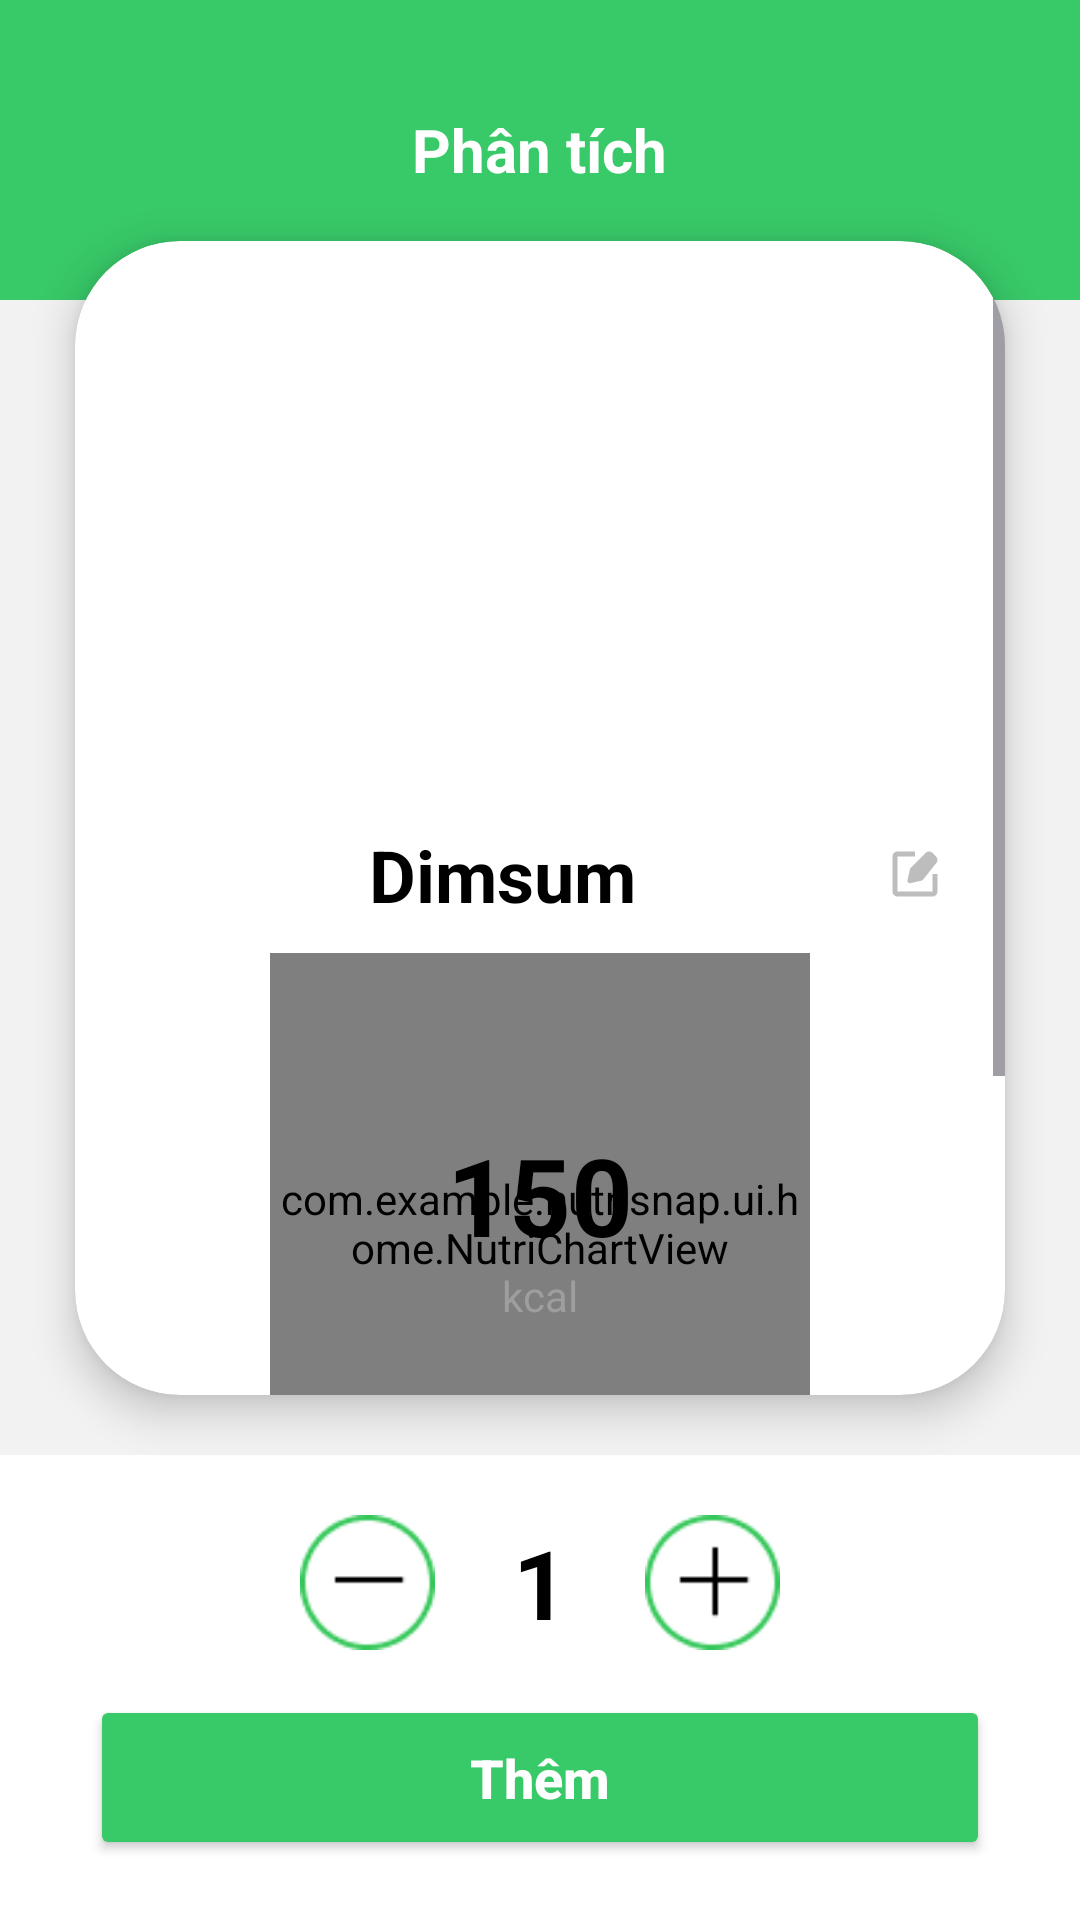

Where to tap for icons on this 1080x1920 app screen, as (x=x, y=y):
minus circle: (x=367, y=1582)
plus circle: (x=712, y=1582)
Sửa tên: (x=915, y=874)
